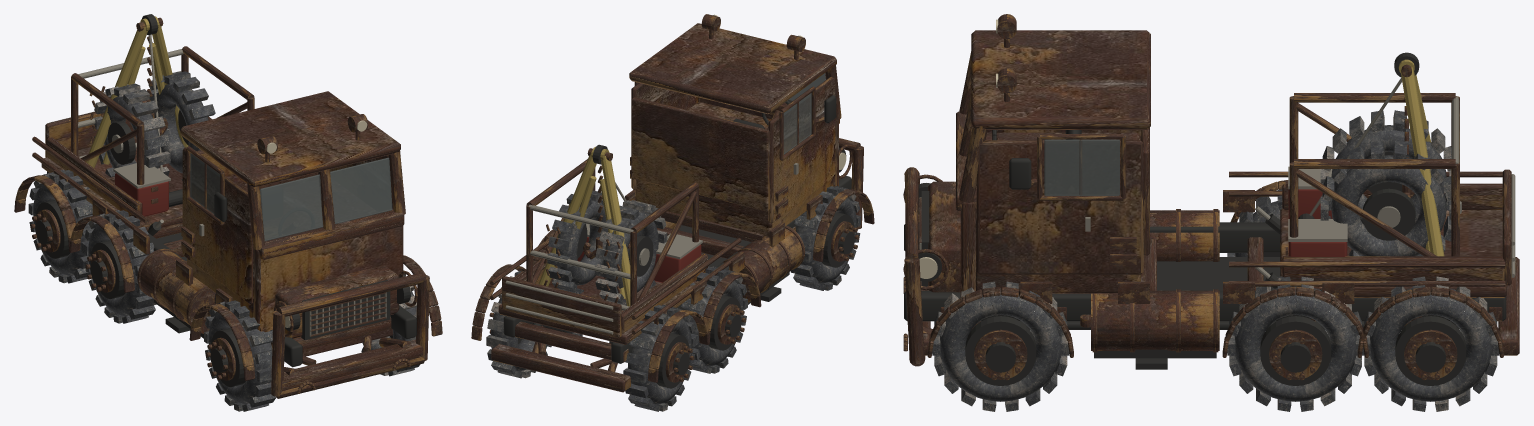
The model's file is longhaul.glb.
The picture shows the model from 3 angles, left to right: view 1: azimuth 30°, elevation 25°; view 2: azimuth 150°, elevation 25°; view 3: azimuth 270°, elevation 25°; orthographic projection. The views are drawn at different scales.
Parts seen in each view (by area): view 1: cab roof pressed edge, full width painted cab front panel, full side door skin, left front windshield pane, right front windshield pane, horizontal fuel tank, front cowl and dash, front chassis bumper, forward engine cover, deck mounted spare tyre.001, recessed radiator mesh, bull bar upper crossbar (+41 smaller); view 2: cab rear wall, cab roof pressed edge, full side door skin, continuous cab lower shell, tailgate panel, rear chassis bumper, horizontal fuel tank, chassis crossmember, flatbed deck behind cab, deck mounted spare tyre.001, bed side wall, axle 3 round tread tyre (+39 smaller); view 3: cab roof pressed edge, full side door skin.001, horizontal fuel tank.001, axle 2 round tread tyre.001, axle 3 round tread tyre.001, axle 1 round tread tyre.001, deck mounted spare tyre.001, dark side door window glass.001, bed side wall.001, flatbed deck behind cab, continuous cab lower shell, joined belly skid plate (+47 smaller).
Part boxes in pixels (x1=…): cab roof pressed edge: x1=180, y1=91, x2=400, y2=187; full width painted cab front panel: x1=253, y1=226, x2=403, y2=356; full side door skin: x1=182, y1=147, x2=253, y2=304; left front windshield pane: x1=260, y1=174, x2=323, y2=241; right front windshield pane: x1=330, y1=157, x2=392, y2=224; horizontal fuel tank: x1=140, y1=251, x2=215, y2=333; front cowl and dash: x1=258, y1=208, x2=404, y2=260; front chassis bumper: x1=281, y1=339, x2=422, y2=390; forward engine cover: x1=275, y1=265, x2=399, y2=338; deck mounted spare tyre.001: x1=154, y1=84, x2=208, y2=173; recessed radiator mesh: x1=301, y1=280, x2=390, y2=340; bull bar upper crossbar: x1=276, y1=272, x2=426, y2=316; cab rear wall: x1=631, y1=97, x2=769, y2=211; cab roof pressed edge: x1=629, y1=23, x2=836, y2=114; full side door skin: x1=768, y1=77, x2=835, y2=223; continuous cab lower shell: x1=635, y1=101, x2=833, y2=237; tailgate panel: x1=502, y1=276, x2=621, y2=337; rear chassis bumper: x1=491, y1=344, x2=630, y2=392; horizontal fuel tank: x1=723, y1=228, x2=802, y2=301; chassis crossmember: x1=515, y1=321, x2=628, y2=362; flatbed deck behind cab: x1=498, y1=275, x2=698, y2=344; deck mounted spare tyre.001: x1=556, y1=200, x2=608, y2=285; bed side wall: x1=621, y1=253, x2=707, y2=333; axle 3 round tread tyre: x1=627, y1=316, x2=691, y2=404; cab roof pressed edge: x1=971, y1=30, x2=1150, y2=129; full side door skin.001: x1=976, y1=140, x2=1143, y2=274; horizontal fuel tank.001: x1=1091, y1=290, x2=1219, y2=350; axle 2 round tread tyre.001: x1=1235, y1=286, x2=1356, y2=401; axle 3 round tread tyre.001: x1=1370, y1=288, x2=1491, y2=401; axle 1 round tread tyre.001: x1=940, y1=288, x2=1061, y2=401; deck mounted spare tyre.001: x1=1331, y1=155, x2=1446, y2=256; dark side door window glass.001: x1=1044, y1=139, x2=1119, y2=195; bed side wall.001: x1=1282, y1=256, x2=1504, y2=280; flatbed deck behind cab: x1=1280, y1=208, x2=1506, y2=297; continuous cab lower shell: x1=976, y1=132, x2=1140, y2=293; joined belly skid plate: x1=1021, y1=257, x2=1404, y2=329.
Size of the model in its own units: 3.19 by 3.94 by 6.94.
Materials: 10 (4 with a texture image).
